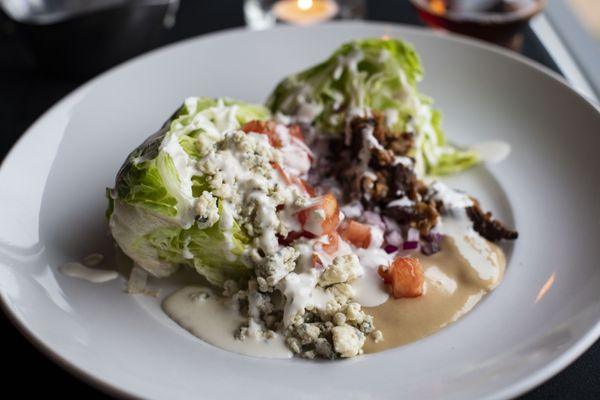curry: (265, 35, 483, 177), (267, 35, 432, 143)
